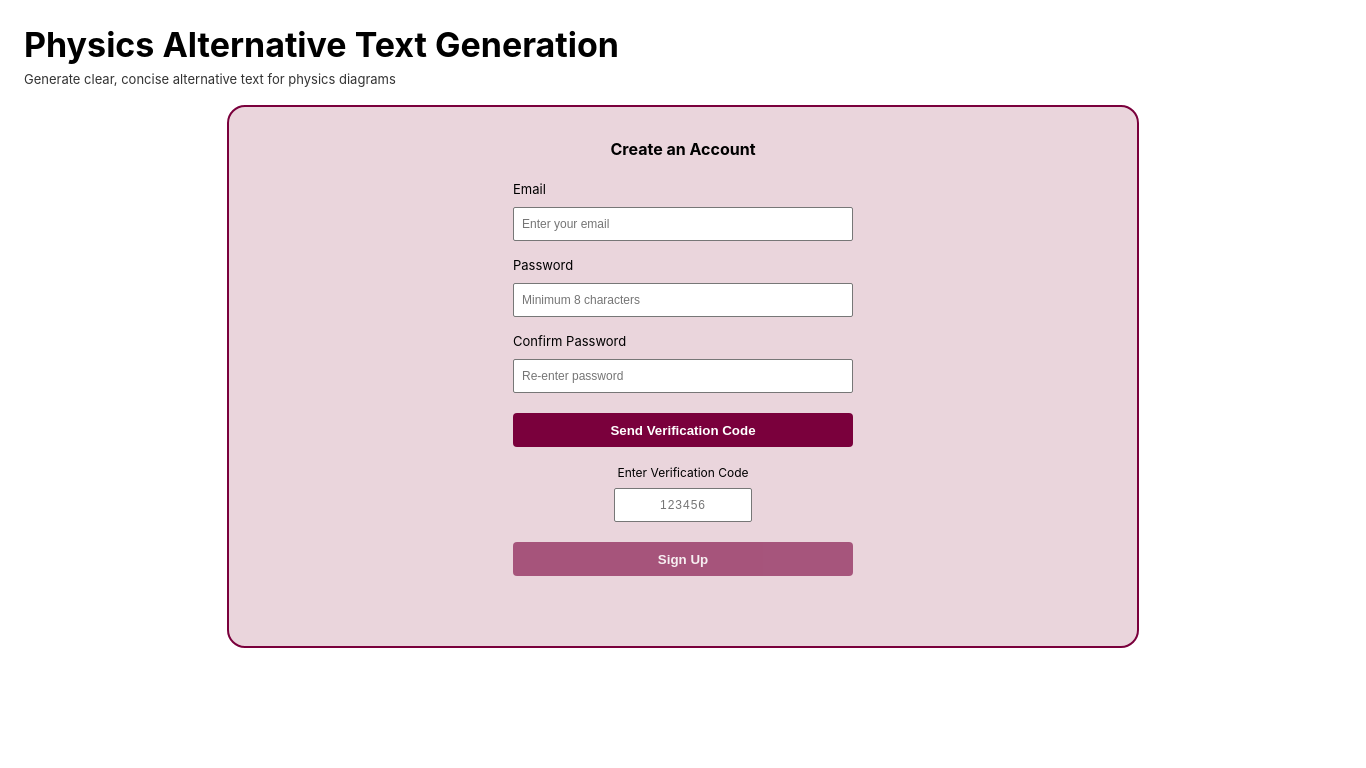
SignUpScreen › shows error if email is missing
The width and height of the screenshot is (1366, 768).
Click the button "Send Verification Code" at point(683, 430), box [513, 413, 853, 447]
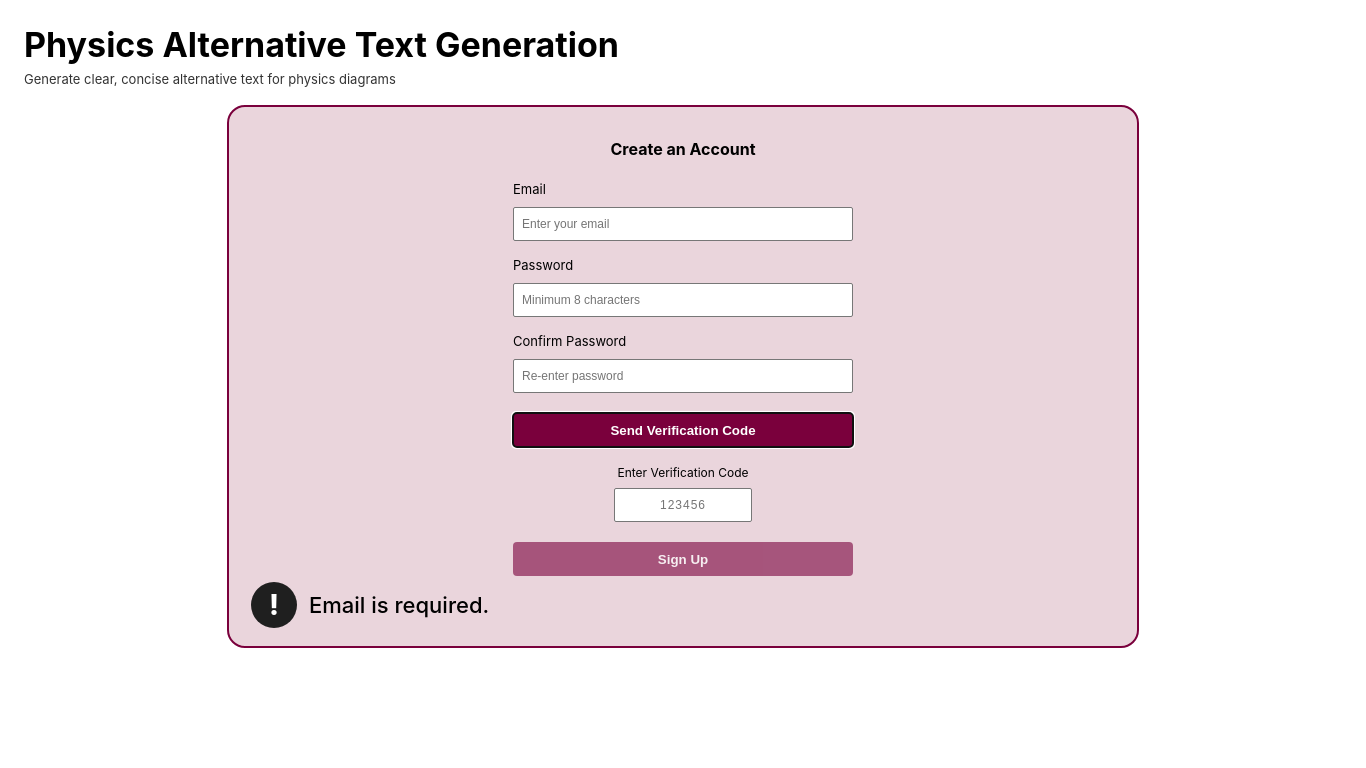
Now the text "Email is required." is shown, box [309, 592, 489, 618]
